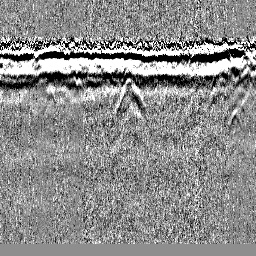cavity: (114, 75, 146, 116)
